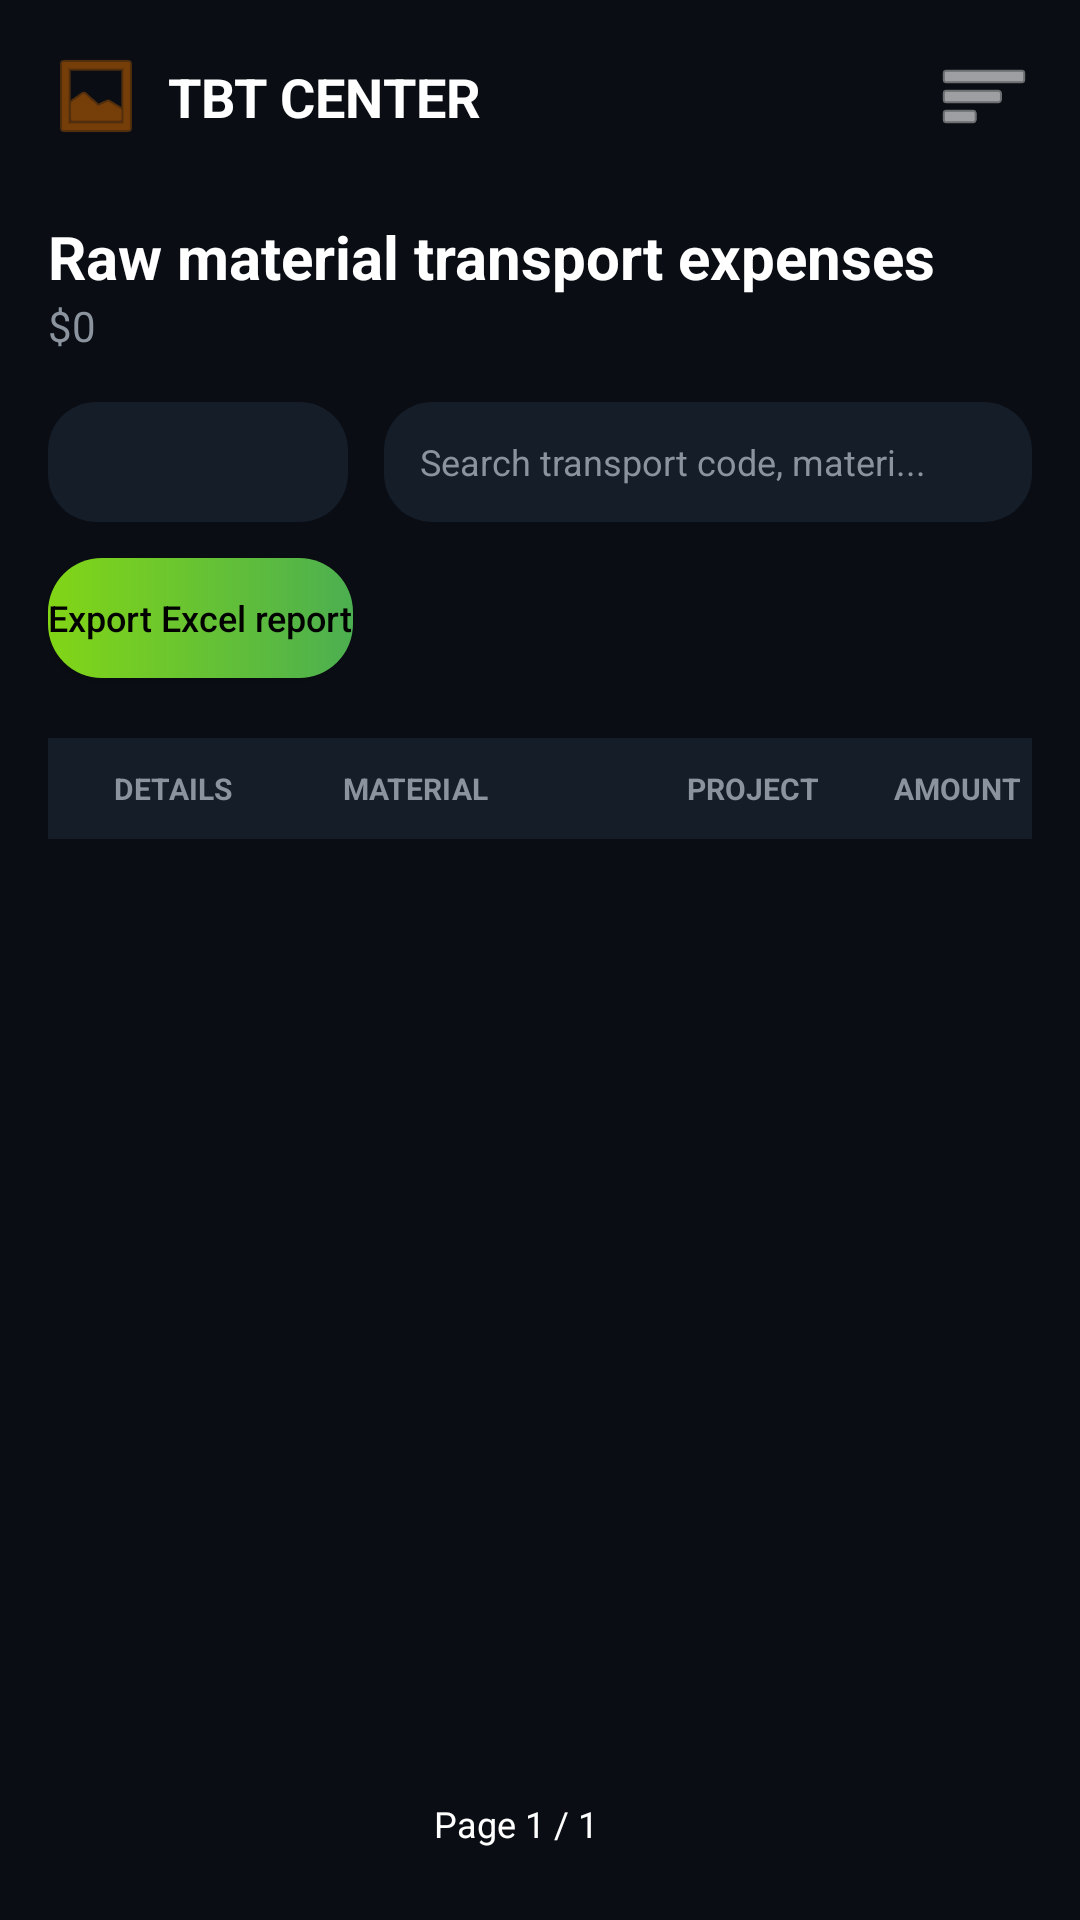

Icons on this 1080×1920 Android screen, each with the point to tap as point (x, y):
gallery: point (96, 96)
sort by size: point (984, 96)
